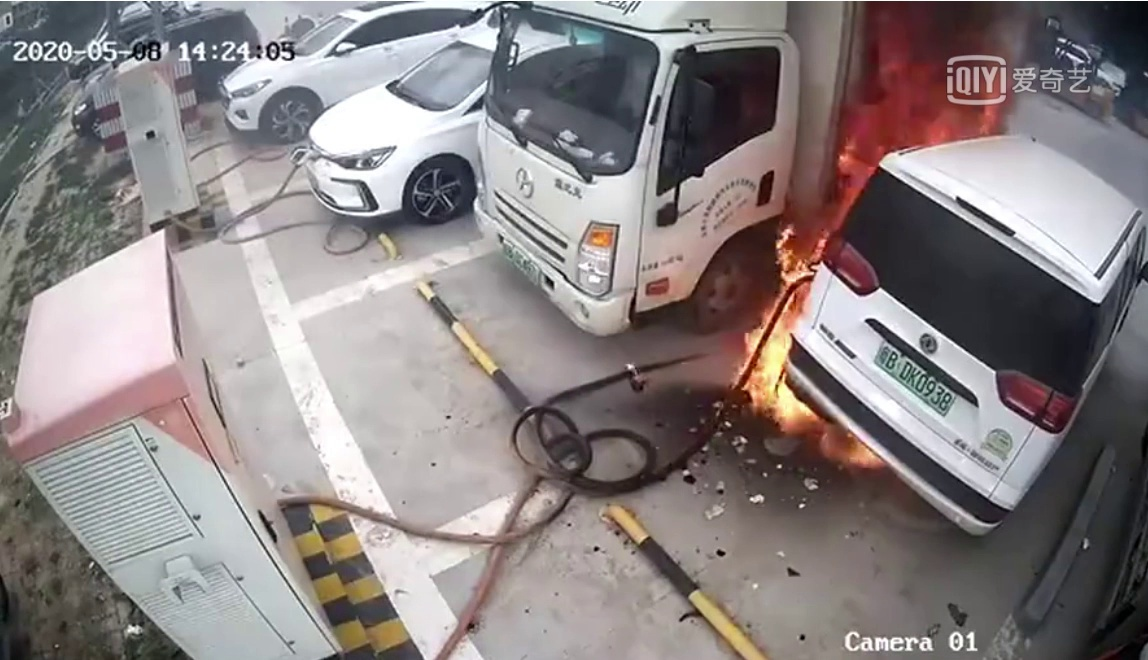fire: (743, 230, 858, 445)
